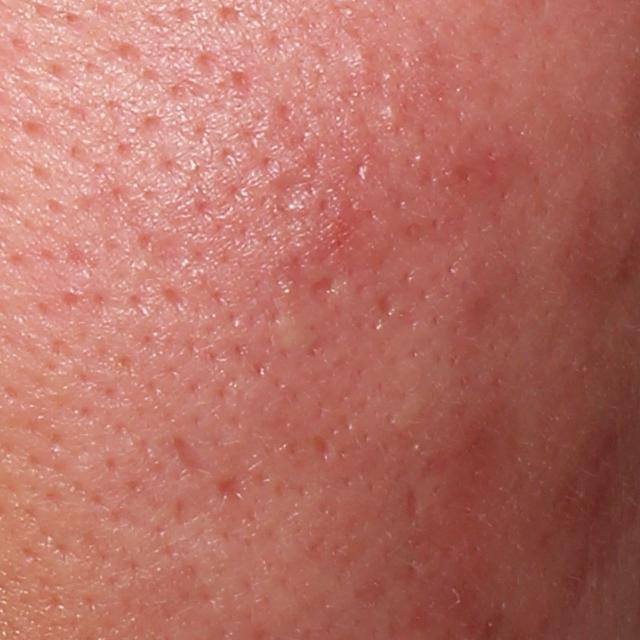atrophic_scar: (264, 153, 314, 214), (172, 431, 210, 473), (211, 472, 251, 503), (302, 276, 336, 309), (312, 430, 336, 460), (405, 488, 420, 520)
hypertrophic_scar: (268, 309, 316, 358)
